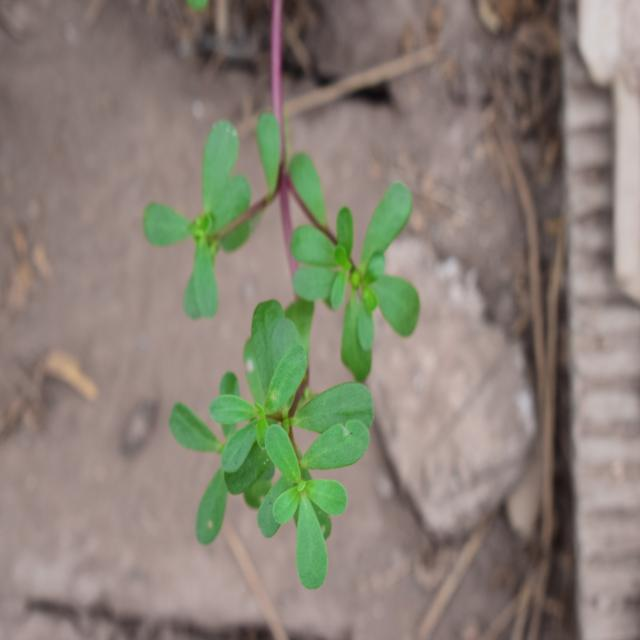purslane: (136, 114, 420, 586)
